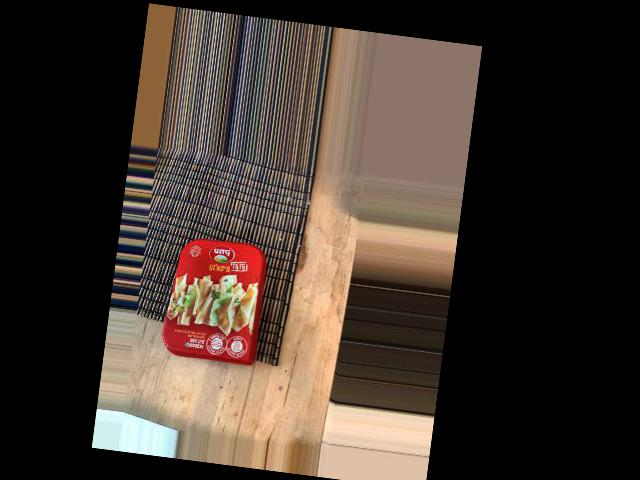cheese: (134, 178, 280, 281)
